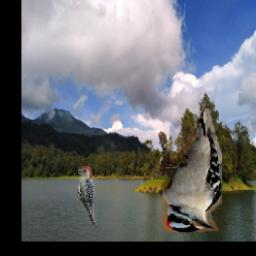Woodpecker: (160, 108, 222, 232), (78, 167, 97, 226)
